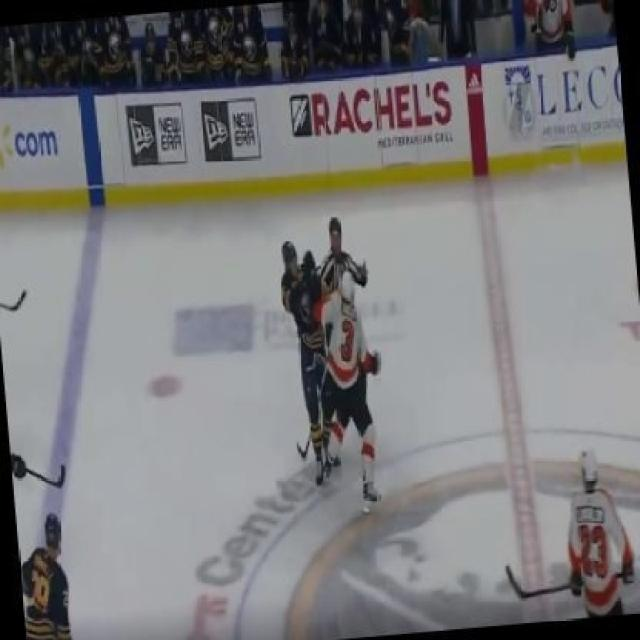fight: (260, 204, 405, 514)
non-fight: (557, 450, 640, 640), (14, 502, 98, 638)
